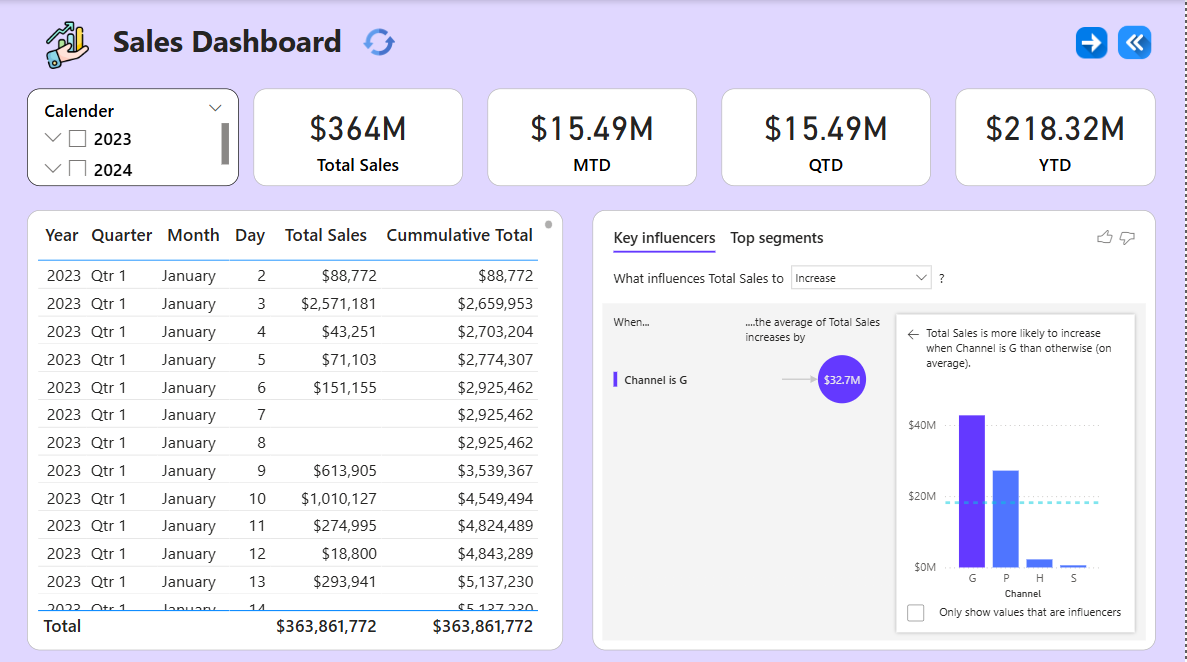

The dashboard page shown, as its layout file describes it:
{"tool":"powerbi","page":{"name":"Key Values","canvas":[1280,720],"ordinal":2},"visuals":[{"type":"tableEx","fields":{"Values":["Calender2.Date.Variation.Date Hierarchy.Year","Calender2.Date.Variation.Date Hierarchy.Quarter","Calender2.Date.Variation.Date Hierarchy.Month","Calender2.Date.Variation.Date Hierarchy.Day","Calculations.Total Sales","Time Intelligence Calculations.Cummulative Total"]},"box":[28.8,226.1,578.9,475.2],"z":0},{"type":"keyDriversVisual","fields":{"Target":["Calculations.Total Sales"],"ExplainBy":["country.Country","channel.Channel"]},"box":[639.4,226.1,607.7,475.2],"z":1000},{"type":"card","fields":{"Values":["Time Intelligence Calculations.MTD"]},"box":[525.6,95,226.1,105.1],"z":2000},{"type":"card","fields":{"Values":["Time Intelligence Calculations.QTD"]},"box":[779,95,226.1,105.1],"z":3000},{"type":"card","fields":{"Values":["Time Intelligence Calculations.YTD"]},"box":[1031,95,216,105.1],"z":4000},{"type":"image","box":[1201,17.3,46.1,56.2],"z":5000},{"type":"image","box":[28.8,17.3,87.8,61.9],"z":6000},{"type":"textbox","box":[116.6,15.8,270.7,60.5],"z":7000},{"type":"card","fields":{"Values":["Calculations.Total Sales"]},"box":[273.6,95,226.1,105.1],"z":8000},{"type":"slicer","fields":{"Values":["Calender2.Date.Variation.Date Hierarchy.Year","Calender2.Date.Variation.Date Hierarchy.Quarter","Calender2.Date.Variation.Date Hierarchy.Month","Calender2.Date.Variation.Date Hierarchy.Day"]},"box":[28.8,95,229,105.1],"z":9000},{"type":"image","box":[387.4,21.6,44.6,49],"z":10000},{"type":"image","box":[1156.3,17.3,44.6,56.2],"z":11000}]}

Visuals, with their boxes in screenshot pixels (x1, y1, x2, y2), scaled from the page's 1280x720 canvas onto the 1187x662 screenshot:
tableEx - Calender2.Date.Variation.Date Hierarchy.Year x Calender2.Date.Variation.Date Hierarchy.Quarter: <region>27, 208, 564, 645</region>
keyDriversVisual - Calculations.Total Sales x country.Country: <region>593, 208, 1156, 645</region>
card - Time Intelligence Calculations.MTD: <region>487, 87, 697, 184</region>
card - Time Intelligence Calculations.QTD: <region>722, 87, 932, 184</region>
card - Time Intelligence Calculations.YTD: <region>956, 87, 1156, 184</region>
image: <region>1114, 16, 1156, 68</region>
image: <region>27, 16, 108, 73</region>
textbox: <region>108, 15, 359, 70</region>
card - Calculations.Total Sales: <region>254, 87, 463, 184</region>
slicer - Calender2.Date.Variation.Date Hierarchy.Year x Calender2.Date.Variation.Date Hierarchy.Quarter: <region>27, 87, 239, 184</region>
image: <region>359, 20, 401, 65</region>
image: <region>1072, 16, 1114, 68</region>
